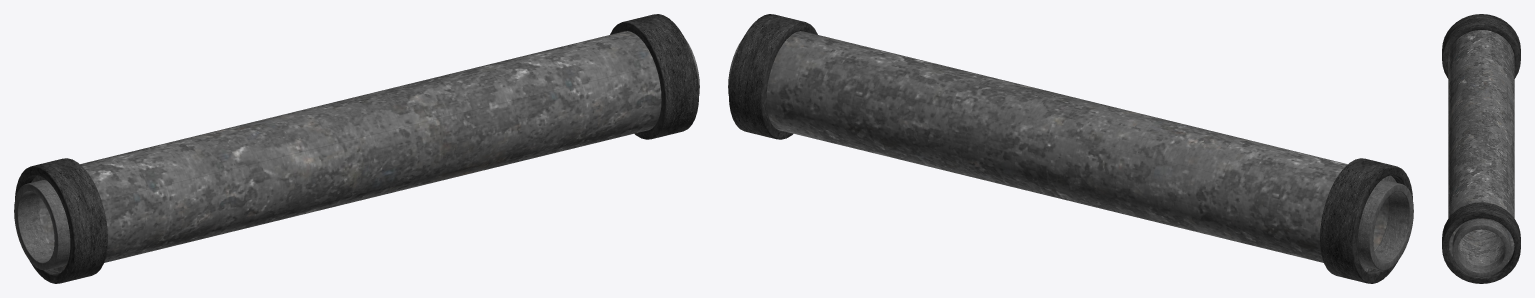
The model's file is Water Pipe.fbx.
The picture shows the model from 3 angles, left to right: view 1: azimuth 30°, elevation 25°; view 2: azimuth 150°, elevation 25°; view 3: azimuth 270°, elevation 25°; orthographic projection. The views are drawn at different scales.
Visible parts, largest first — view 1: Tube_1, Head_2, Head_1; view 2: Tube_1, Head_2, Head_1; view 3: Tube_1, Head_1, Head_2.
Boxes of the visible parts, x1=… form: Tube_1: x1=31, y1=31, x2=661, y2=272; Head_2: x1=14, y1=158, x2=107, y2=283; Head_1: x1=610, y1=14, x2=699, y2=139; Tube_1: x1=766, y1=31, x2=1396, y2=272; Head_2: x1=1320, y1=158, x2=1413, y2=283; Head_1: x1=728, y1=14, x2=817, y2=139; Tube_1: x1=1448, y1=30, x2=1514, y2=265; Head_1: x1=1442, y1=202, x2=1520, y2=283; Head_2: x1=1442, y1=14, x2=1520, y2=78.
Bounding box in the file's own units: 1742 × 284 × 284.
Materials: 1 (1 with a texture image).
